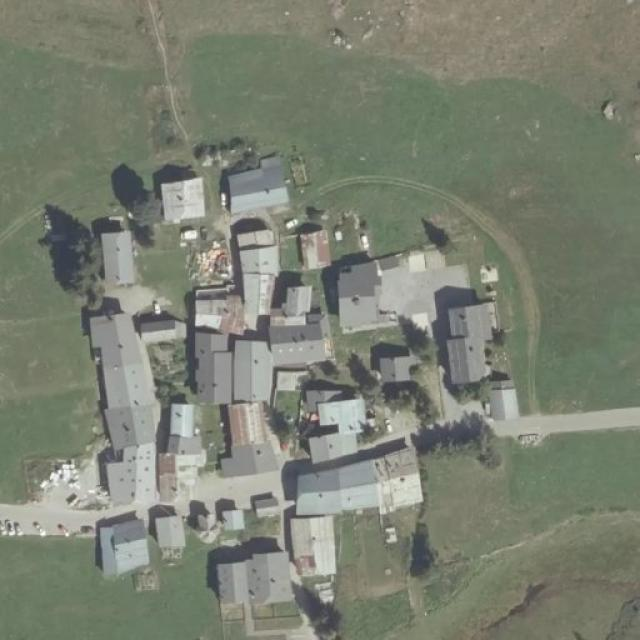ferme: (219, 399, 286, 487), (287, 510, 344, 581), (295, 229, 332, 271)
maison: (338, 248, 475, 332), (192, 288, 275, 407), (296, 449, 424, 517), (94, 348, 164, 449), (270, 280, 332, 371), (212, 552, 296, 612), (162, 399, 208, 498), (444, 301, 494, 389), (227, 151, 294, 211), (304, 388, 374, 444), (103, 449, 162, 506), (228, 228, 287, 280), (100, 520, 152, 579), (152, 174, 208, 228), (93, 226, 142, 286), (83, 308, 139, 358), (139, 312, 194, 351), (486, 380, 529, 420), (152, 513, 190, 555), (376, 353, 415, 389)
